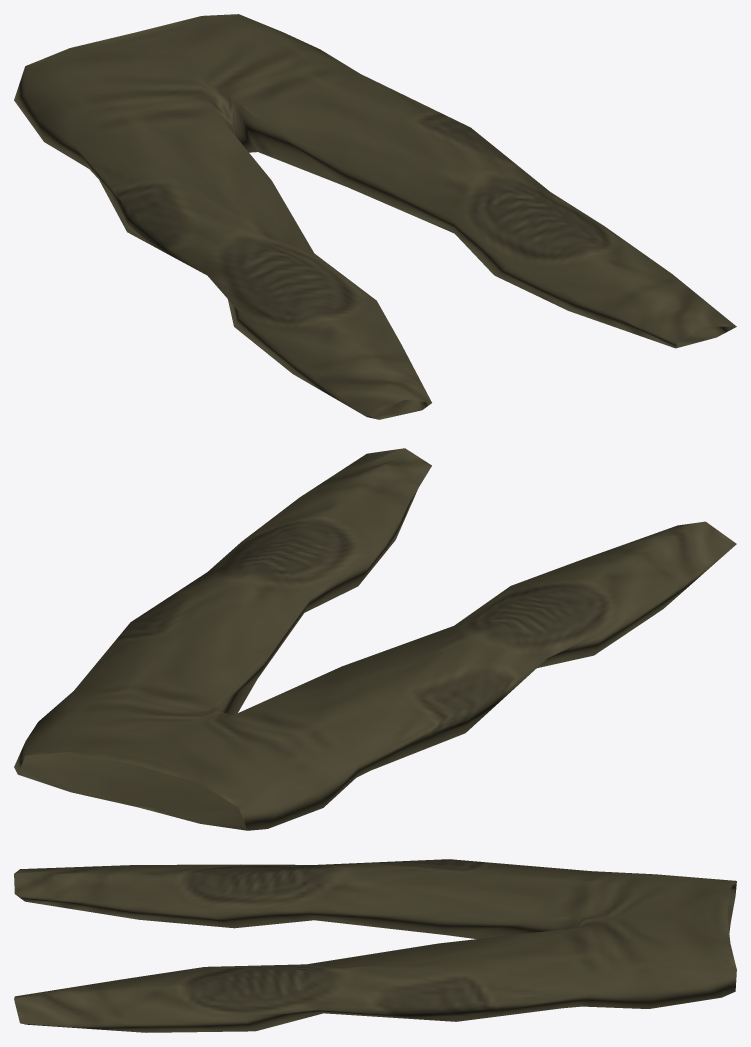
File: PS5MPantsGround.fbx
The picture shows the model from 3 angles, top to bottom: view 1: azimuth 30°, elevation 25°; view 2: azimuth 150°, elevation 25°; view 3: azimuth 270°, elevation 25°; orthographic projection. The views are drawn at different scales.
Visible parts, largest first — view 1: PS5MPants; view 2: PS5MPants; view 3: PS5MPants.
Part boxes in pixels (x1,y1,x2,y2): PS5MPants: (14, 14, 736, 419); PS5MPants: (14, 448, 736, 830); PS5MPants: (14, 859, 736, 1032).
Bounding box in the file's own units: 0.2544 × 0.0336 × 0.5003.
